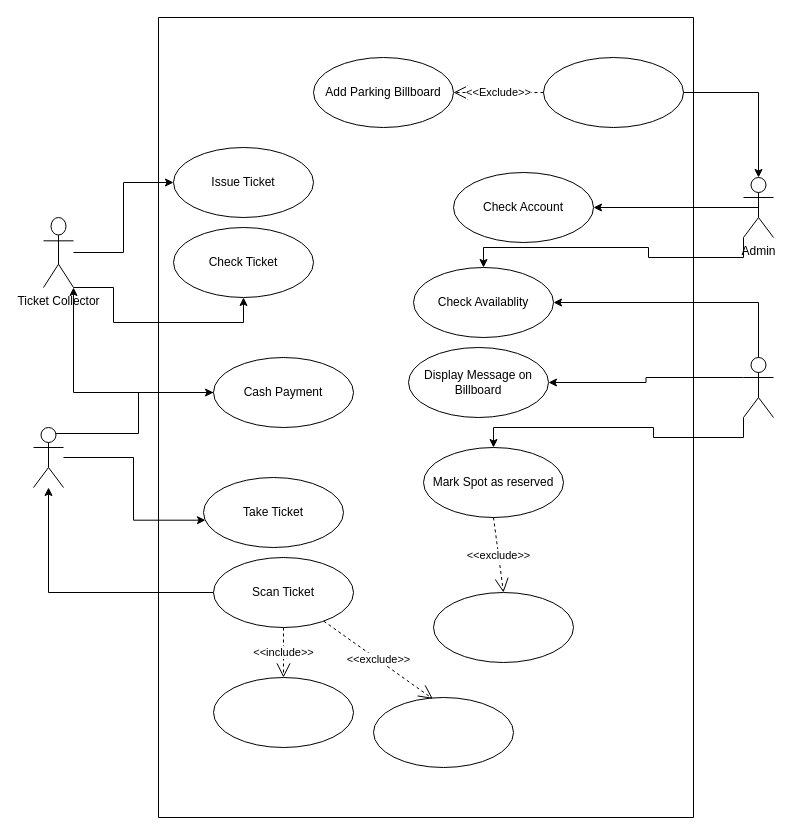
Some shapes in this 795 by 835 pixel diagram are drawn without their labels. Here are the shapes that lost their labels. From the top down, the box of each, then its label:
(542, 56, 684, 128): Add Parking Spot/Floor
(742, 356, 774, 418): System
(32, 426, 64, 488): Customer
(432, 592, 574, 662): Guide User to Spot
(212, 676, 354, 748): Pay with credit/upi
(372, 696, 514, 768): Invalid Ticket
